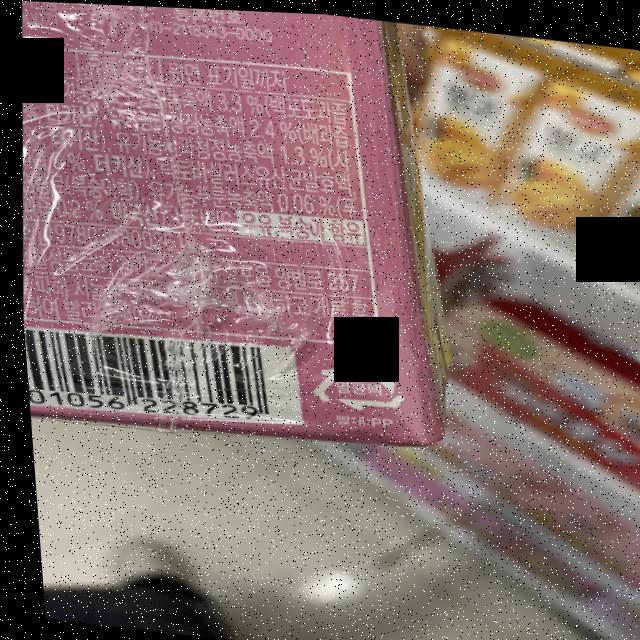SterilizedPack: (300, 346, 404, 415)
